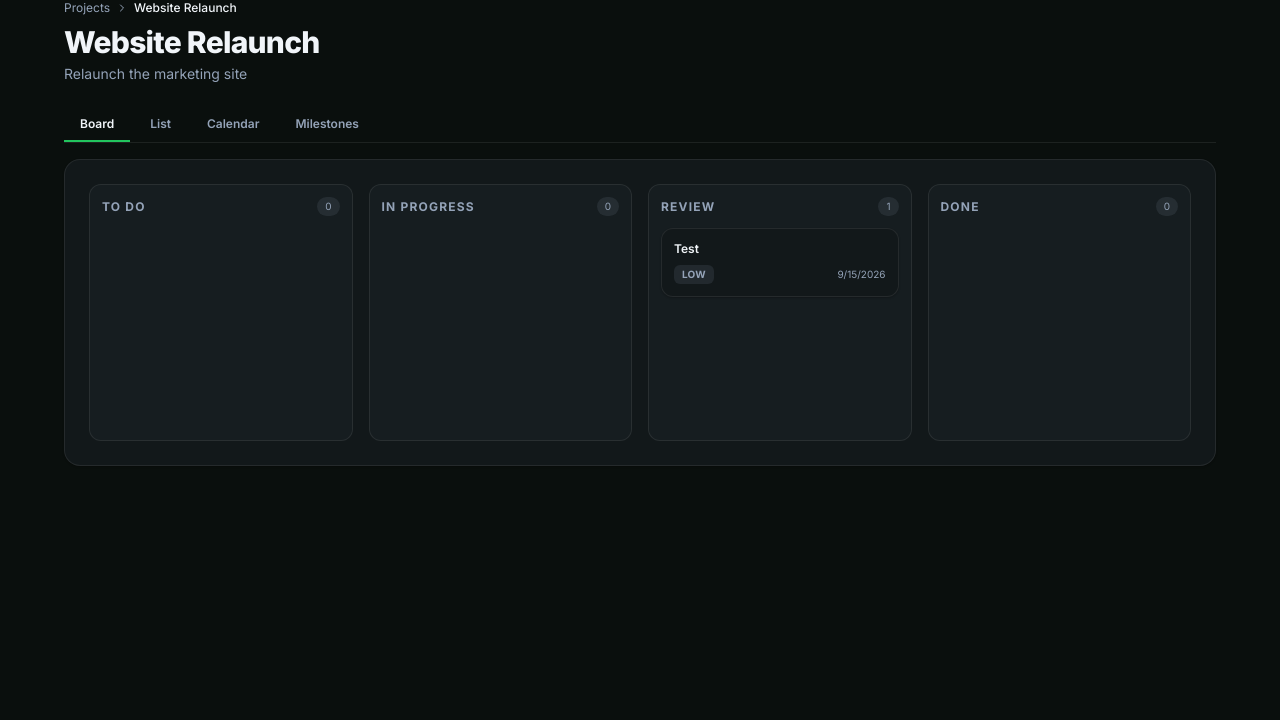
ProjectDetailPage — task drawer regression (subtasks missing from list response) › opens the task drawer from the List view without crashing
Click the tab "List" at x=161, y=125, box [134,108,187,142]
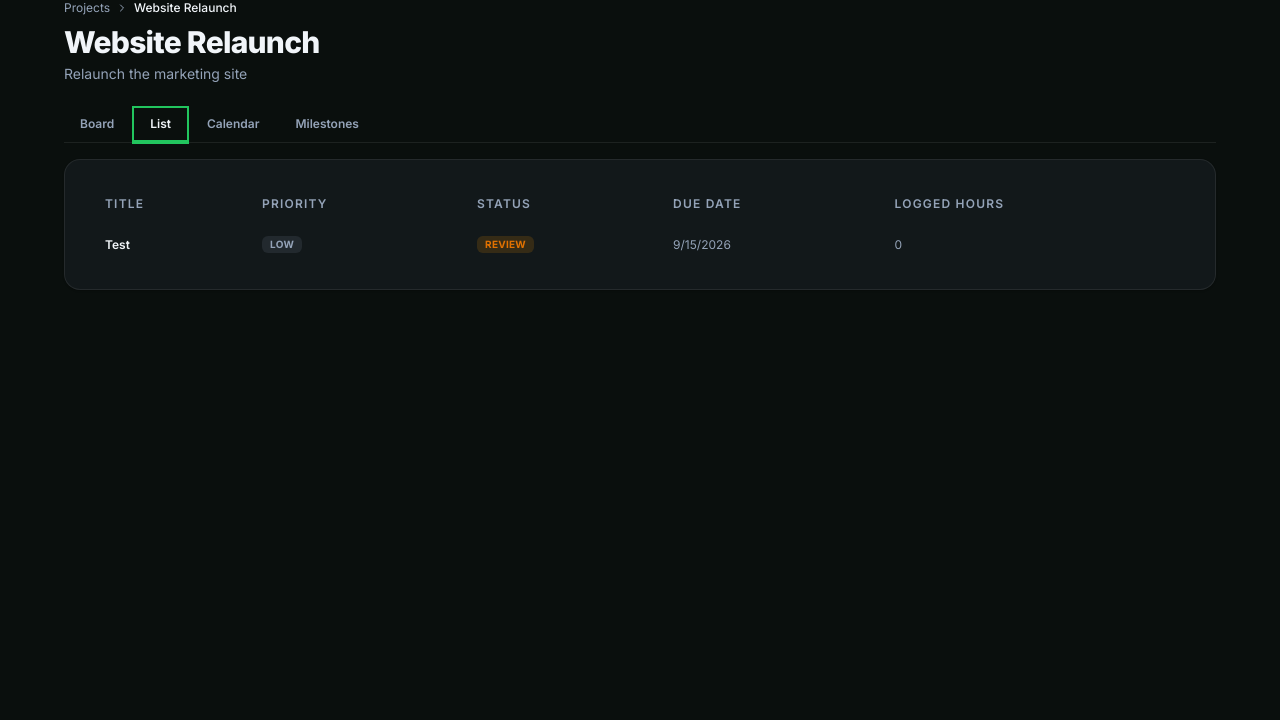
Click the button with aria-label "Open task Test" at x=282, y=245, box [89,224,1191,265]
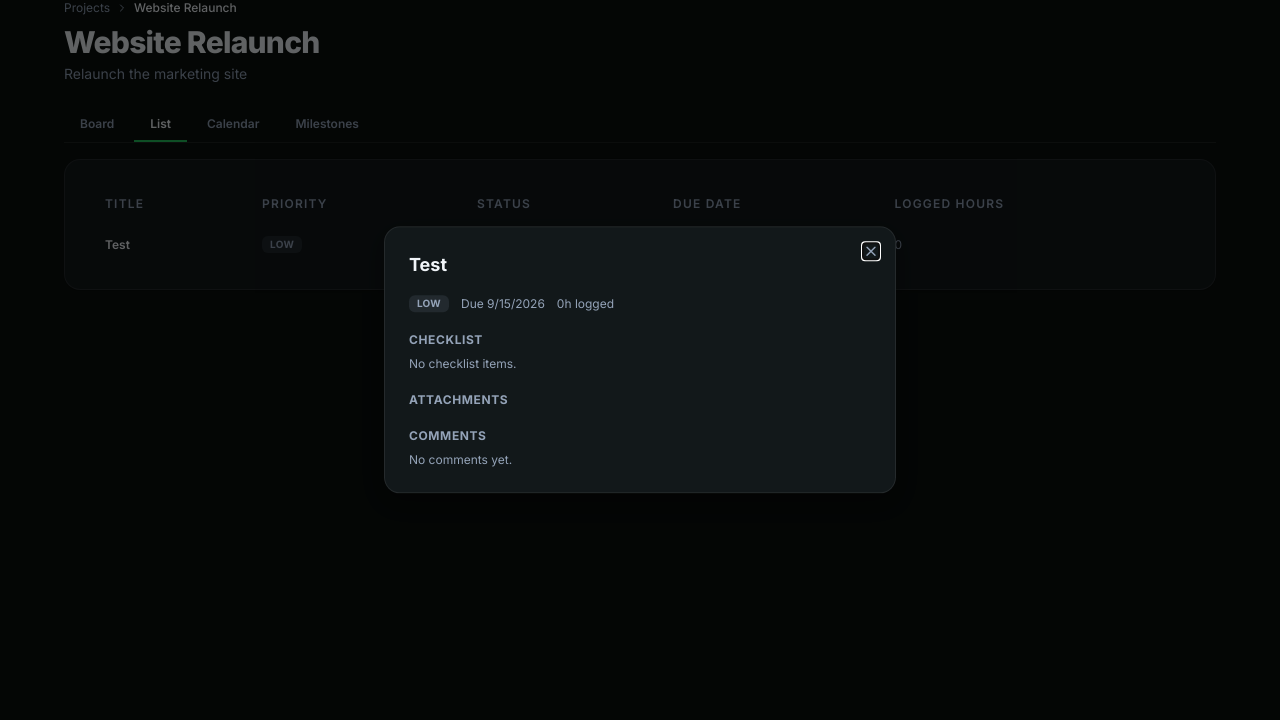
expect the text "No checklist items." is shown: met, box [409,357,516,372]
